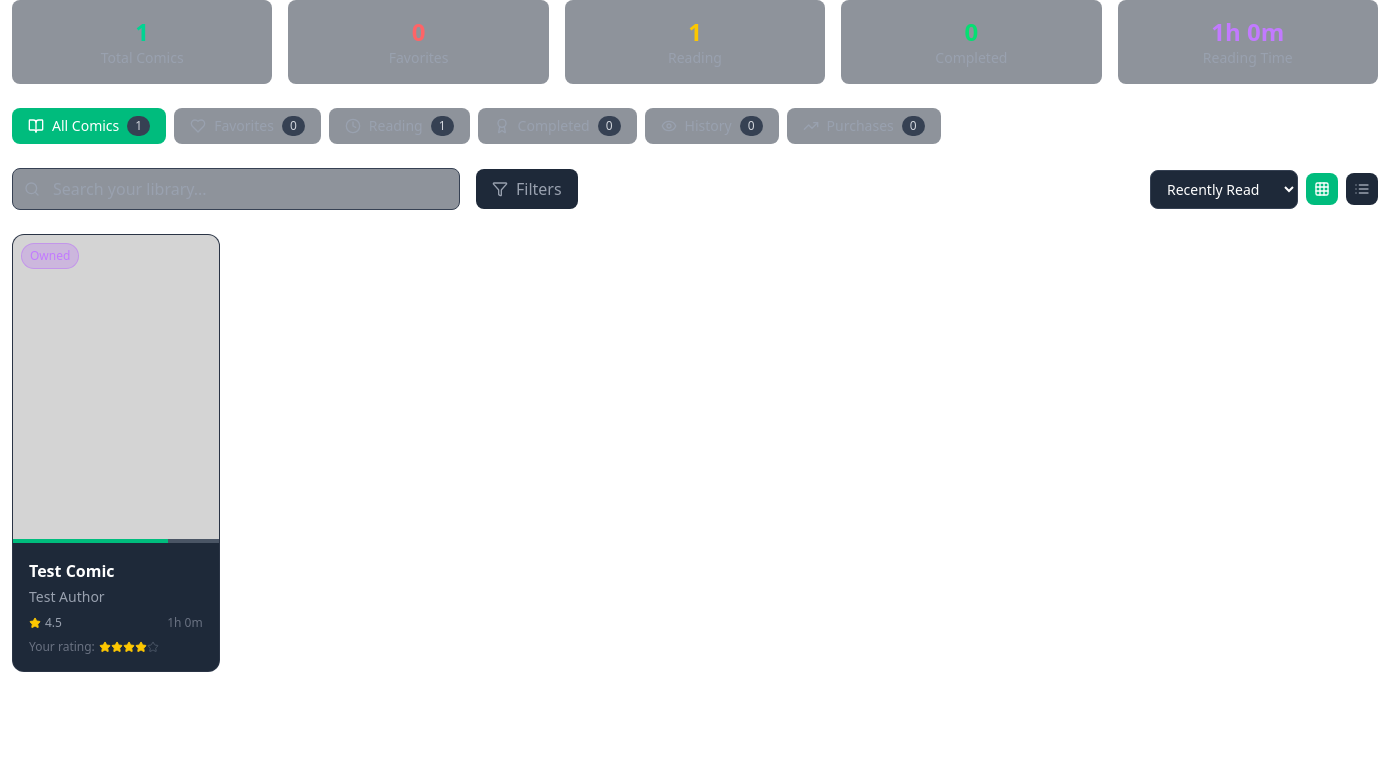
Test: UserLibrary › shows filters panel when filter button is clicked
The image size is (1390, 768).
Click the button "Filters": [527, 189] box x1=476 y1=169 x2=578 y2=209
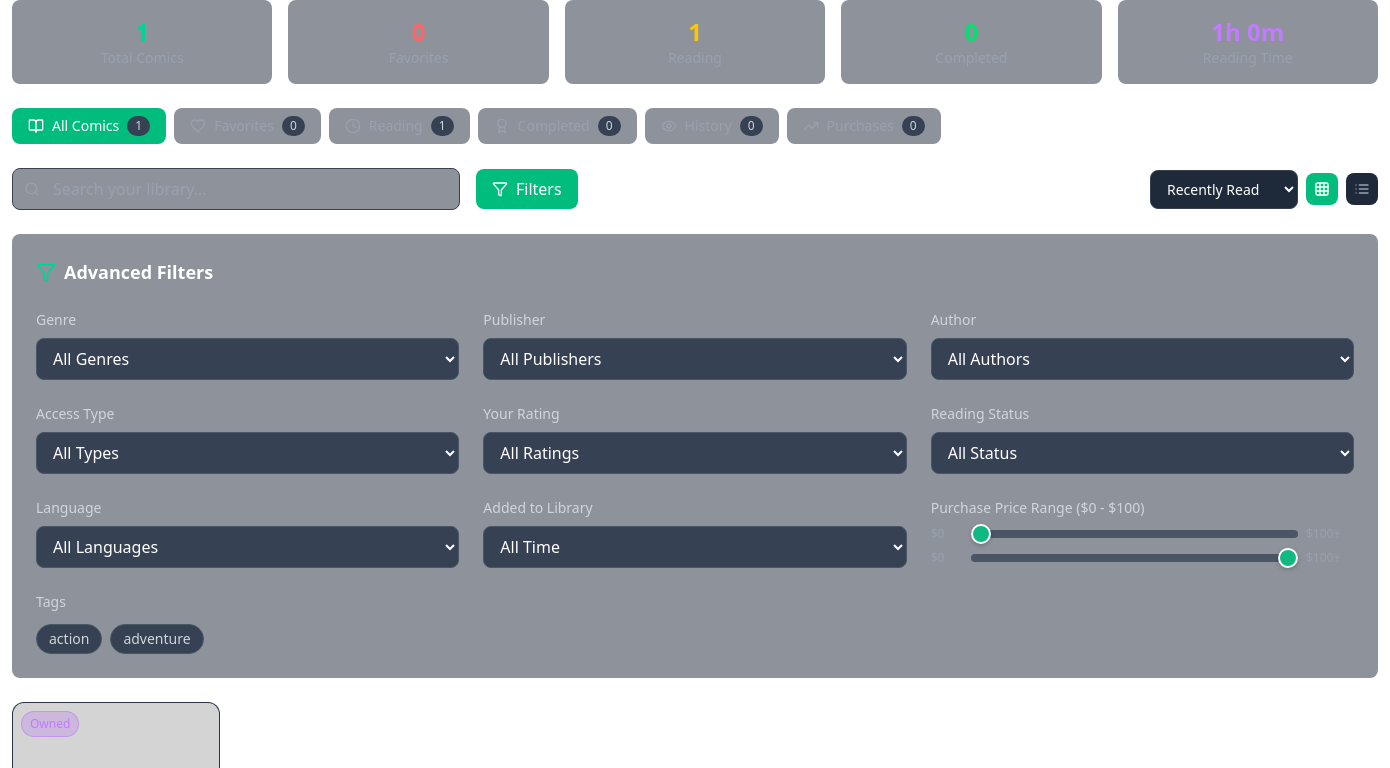
Check: the heading "Advanced Filters" is shown, box x1=64 y1=258 x2=213 y2=286
